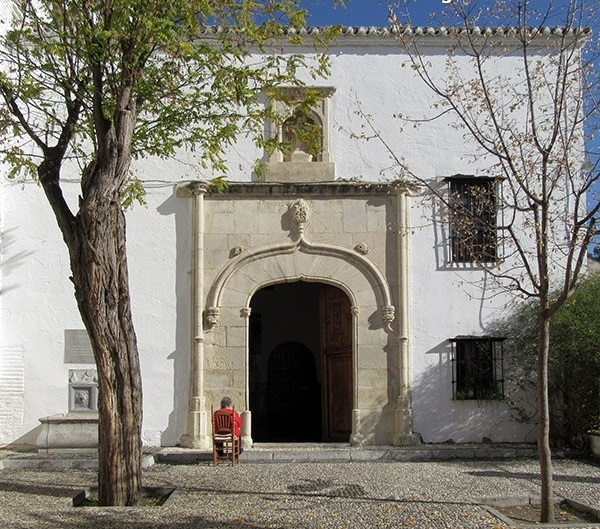arco-conopial: (215, 231, 382, 267), (253, 271, 348, 292)
